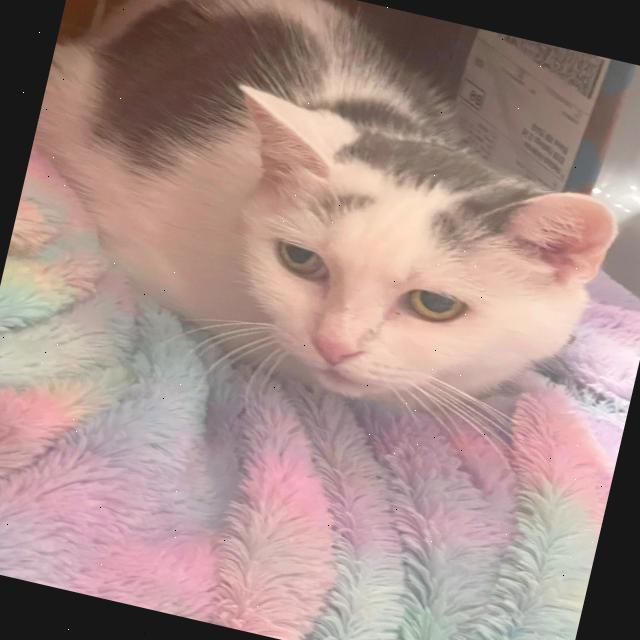american_shorthair_cat: (162, 74, 638, 464)
